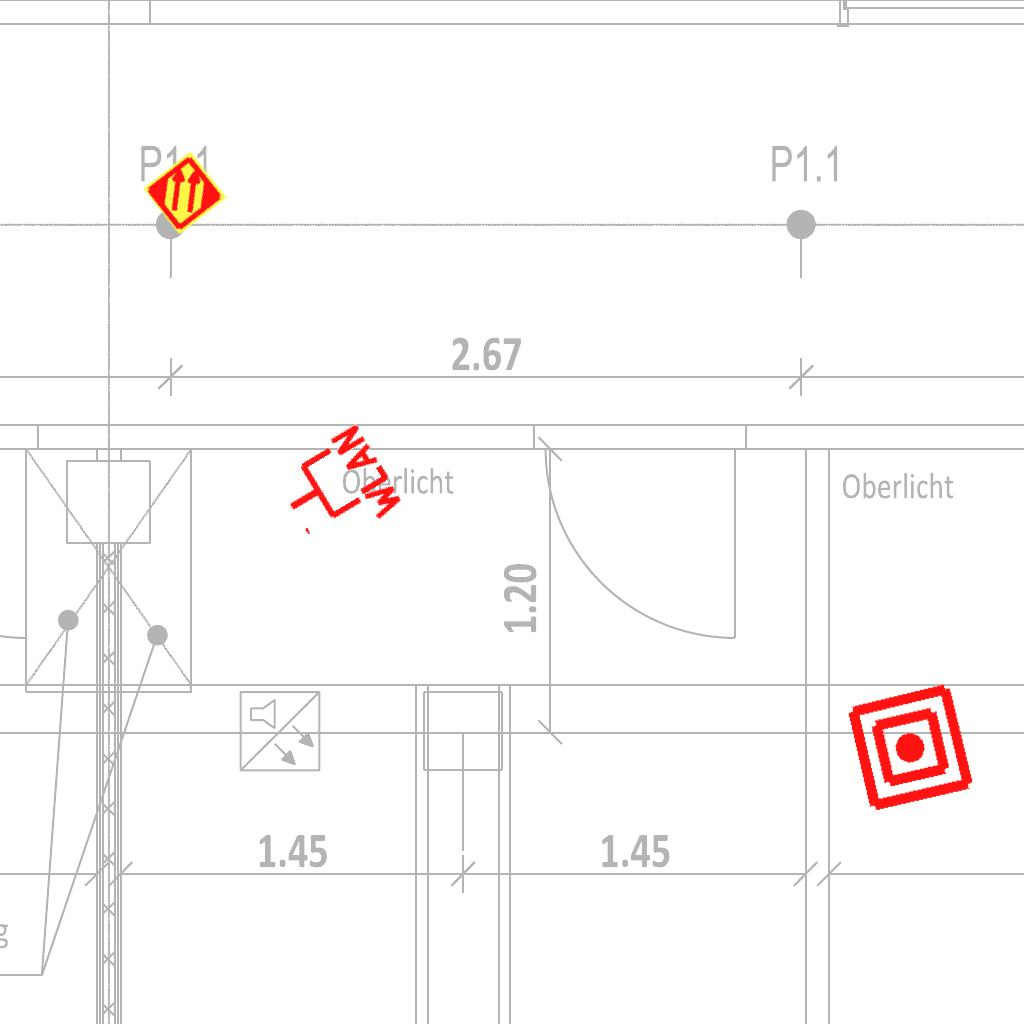ASR_Ansaugrauchmelder: (141, 149, 229, 237)
NAM-Nichtautomatischer_Melder: (842, 679, 979, 816)
WLAN: (265, 418, 410, 562)
